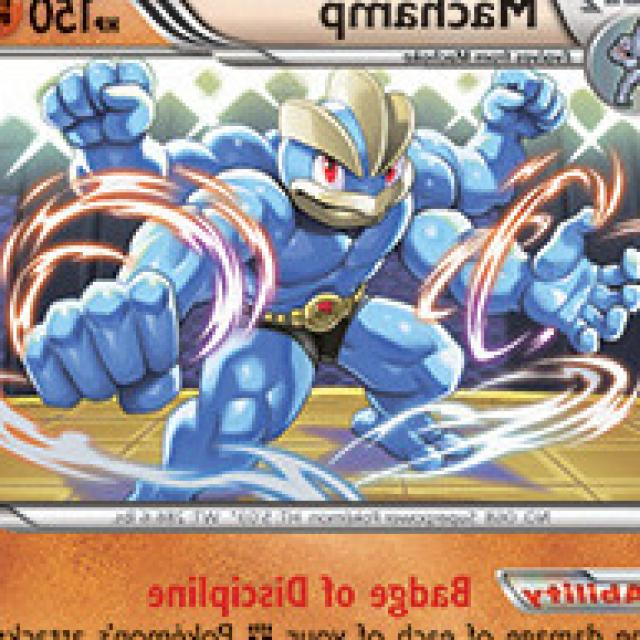Machamp: (94, 69, 520, 503)
